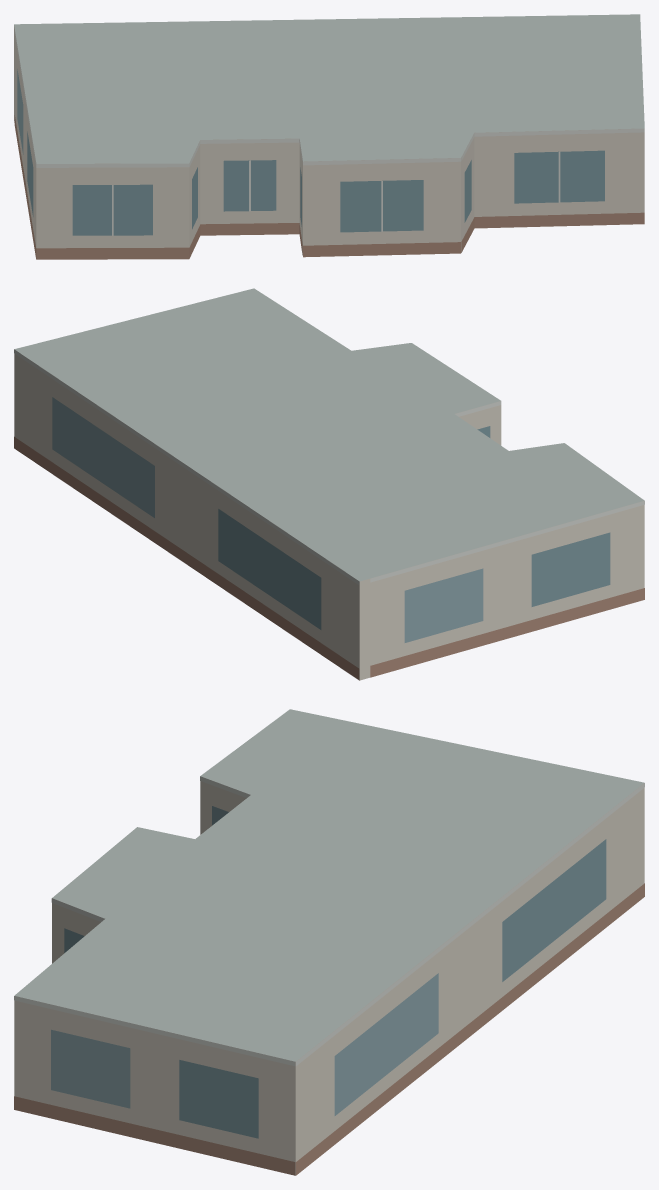
File: survey-upis-32633684.glb
The picture shows the model from 3 angles, top to bottom: view 1: azimuth 30°, elevation 25°; view 2: azimuth 150°, elevation 25°; view 3: azimuth 270°, elevation 25°; orthographic projection. The views are drawn at different scales.
Parts seen in each view (by area): view 1: survey-upis-32633684.tmp; view 2: survey-upis-32633684.tmp; view 3: survey-upis-32633684.tmp.
Part boxes in pixels (x1,y1,x2,y2): survey-upis-32633684.tmp: (14,14,644,259); survey-upis-32633684.tmp: (14,288,644,680); survey-upis-32633684.tmp: (14,709,644,1175).
Size of the model in its own units: 20.25 by 3.05 by 15.3.
